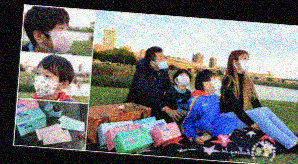with_mask: (48, 24, 74, 53), (32, 68, 57, 98), (208, 75, 222, 92), (237, 55, 251, 71), (156, 53, 169, 70), (176, 73, 190, 86)
